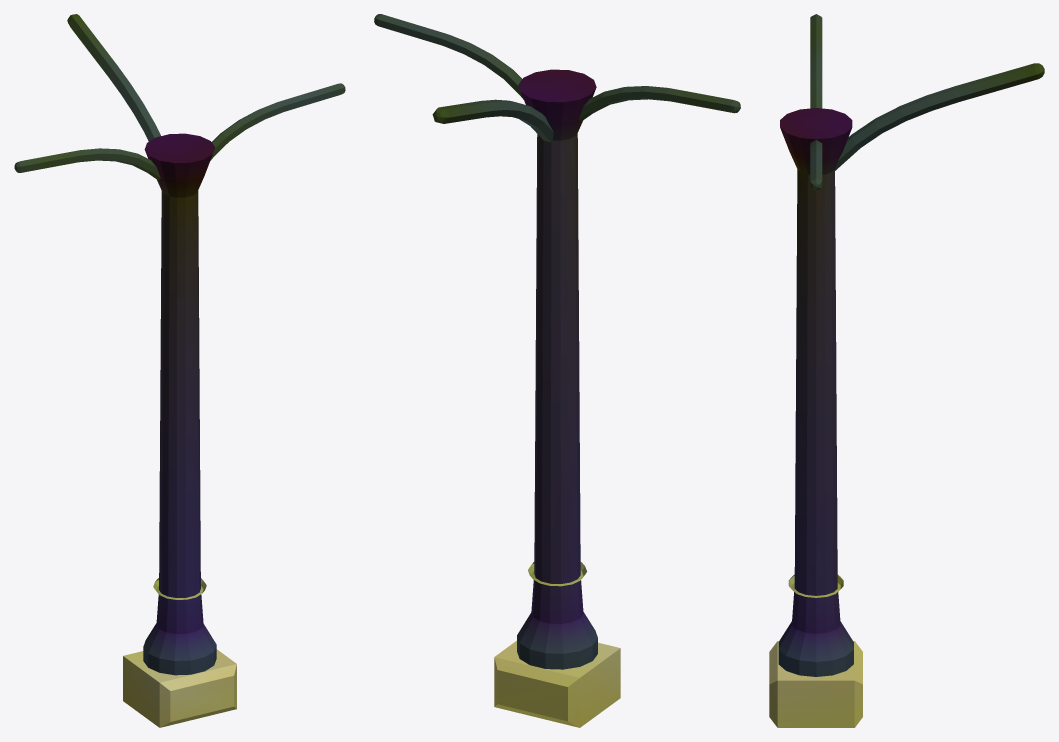
File: GS_EntranceCanopy_Column.glb
3 views of the same model, side by side, from view 1: azimuth 30°, elevation 25°; view 2: azimuth 150°, elevation 25°; view 3: azimuth 270°, elevation 25° (orthographic). The views are drawn at different scales.
Visible parts, largest first — view 1: GS_EntranceCanopy_Column; view 2: GS_EntranceCanopy_Column; view 3: GS_EntranceCanopy_Column.
Boxes of the visible parts, left/top/right/bottom form: GS_EntranceCanopy_Column: left=14, top=14, right=345, bottom=727; GS_EntranceCanopy_Column: left=374, top=14, right=740, bottom=727; GS_EntranceCanopy_Column: left=769, top=14, right=1044, bottom=727.
Bounding box in the file's own units: 2.9 × 5.15 × 2.
